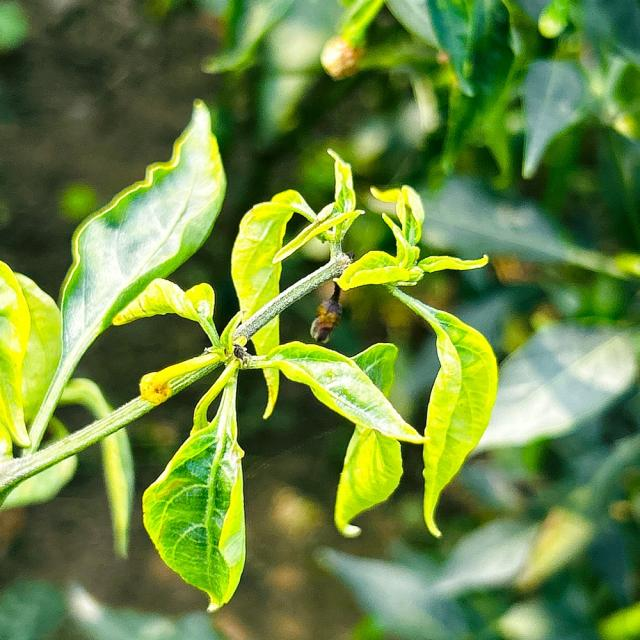Chilli_Leaf_Curl: (1, 98, 499, 612), (21, 97, 228, 456), (330, 182, 499, 538), (385, 284, 499, 538), (140, 363, 247, 613), (331, 341, 427, 537), (261, 339, 428, 445), (334, 183, 490, 292), (229, 187, 318, 347), (0, 258, 63, 455)
